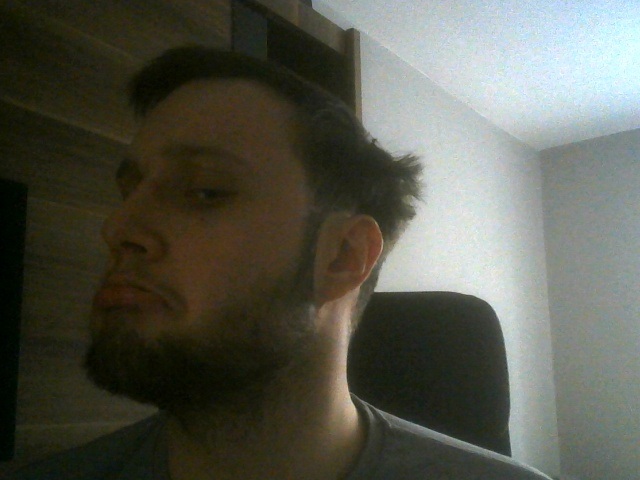neutral: (91, 50, 384, 409)
